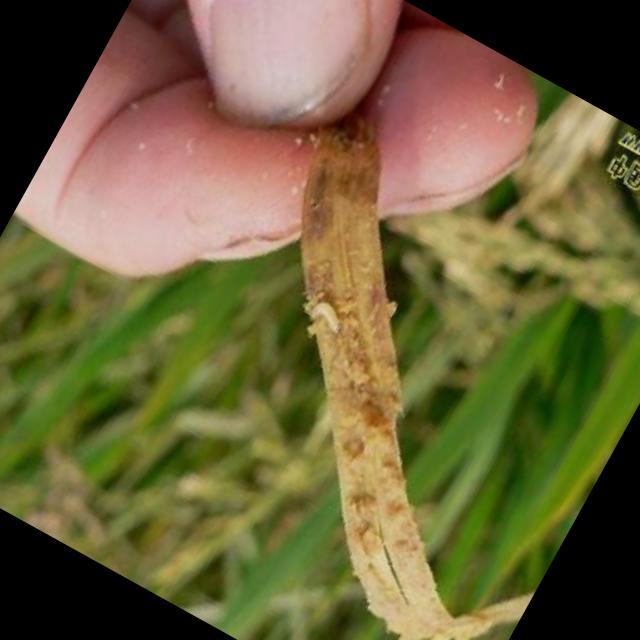whorl-maggot: (300, 293, 360, 354)
